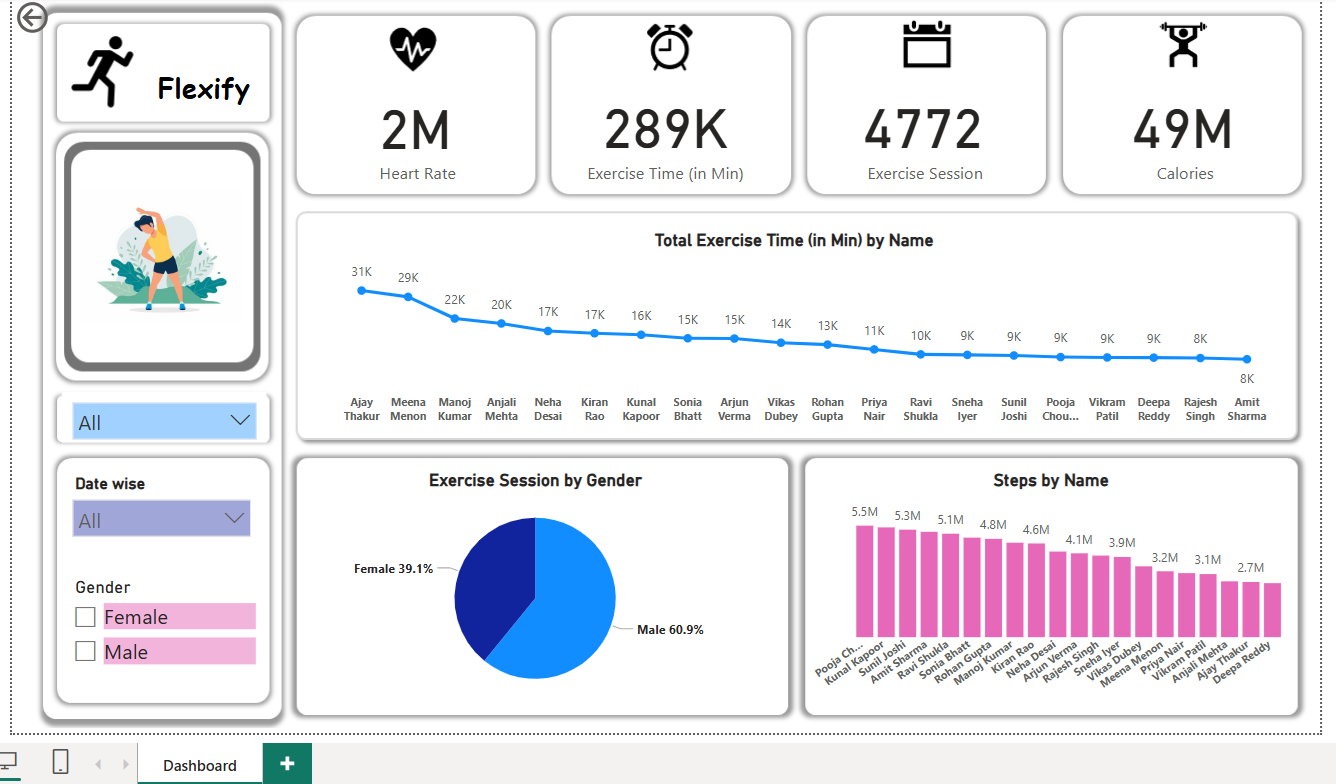

Layout of this report page (visuals, bound fields, positions):
{"tool":"powerbi","page":{"name":"Dashboard","canvas":[1280,720],"ordinal":0},"visuals":[{"type":"image","box":[9.6,0,1270.7,720.4],"z":0},{"type":"textbox","box":[130.4,64.5,113.9,48],"z":1000},{"type":"card","fields":{"Values":["Fitness Status.Heart Rate"]},"box":[296.4,89.2,178.4,97.4],"z":2000},{"type":"actionButton","box":[0,0,100,40],"z":3000},{"type":"card","fields":{"Values":["Fitness Status.Exercise Time (in Min)"]},"box":[550.3,79.6,178.4,107],"z":4000},{"type":"card","fields":{"Values":["Fitness Status.Exercise Session"]},"box":[802.7,79.6,178.4,107],"z":5000},{"type":"card","fields":{"Values":["Fitness Status.Calories"]},"box":[1056.6,79.6,178.4,107],"z":6000},{"type":"lineChart","title":"Total Exercise Time (in Min) by Name","fields":{"Category":["UserData.Name"],"Y":["Fitness Status.Exercise Time (in Min)"]},"box":[296.4,227.8,938.6,197.6],"z":7000},{"type":"pieChart","title":" Exercise Session by Gender","fields":{"Category":["UserData.Gender"],"Y":["Fitness Status.Exercise Session"]},"box":[296.4,462.4,432.2,233.3],"z":8000},{"type":"columnChart","title":" Steps by Name","fields":{"Y":["Fitness Status.Steps"],"Category":["UserData.Name"]},"box":[778,462.4,477.5,233.3],"z":9000},{"type":"slicer","fields":{"Values":["Fitness Status.Date"]},"box":[49.4,462.4,194.9,100.2],"z":10000},{"type":"slicer","fields":{"Values":["UserData.Gender"]},"box":[49.4,562.6,194.9,116.6],"z":11000},{"type":"slicer","fields":{"Values":["UserData.Name"]},"box":[49.4,387,200.3,49.4],"z":12000},{"type":"image","box":[61.7,156.4,168.8,193.5],"z":13000}]}

Visuals, with their boxes on the page's 1280x720 design canvas (x1, y1, x2, y2). These are canvas units, not pixel positions in the 1336x784 screenshot, which may show the page scaled, cropped or inside an application window:
image: left=10, top=0, right=1280, bottom=720
textbox: left=130, top=64, right=244, bottom=112
card - Fitness Status.Heart Rate: left=296, top=89, right=475, bottom=187
actionButton: left=0, top=0, right=100, bottom=40
card - Fitness Status.Exercise Time (in Min): left=550, top=80, right=729, bottom=187
card - Fitness Status.Exercise Session: left=803, top=80, right=981, bottom=187
card - Fitness Status.Calories: left=1057, top=80, right=1235, bottom=187
"Total Exercise Time (in Min) by Name" lineChart: left=296, top=228, right=1235, bottom=425
" Exercise Session by Gender" pieChart: left=296, top=462, right=729, bottom=696
" Steps by Name" columnChart: left=778, top=462, right=1256, bottom=696
slicer - Fitness Status.Date: left=49, top=462, right=244, bottom=563
slicer - UserData.Gender: left=49, top=563, right=244, bottom=679
slicer - UserData.Name: left=49, top=387, right=250, bottom=436
image: left=62, top=156, right=230, bottom=350
